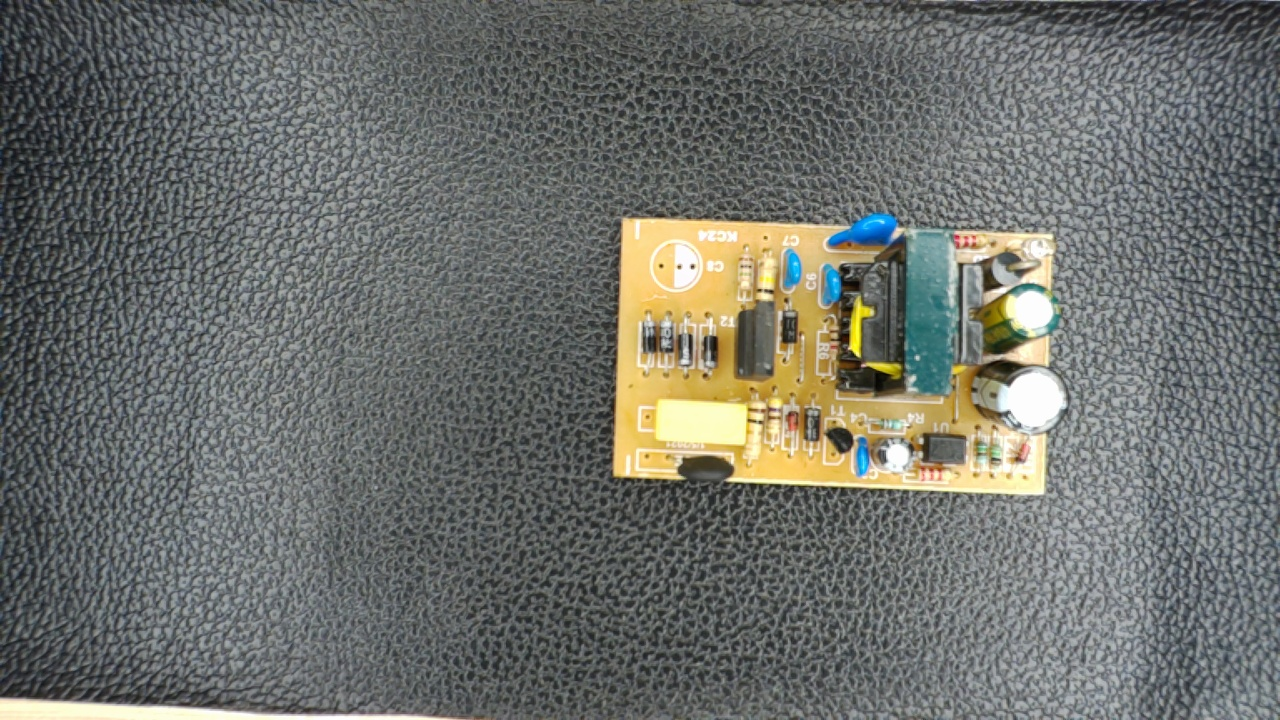fuse: (657, 447, 743, 486)
mov: (824, 212, 900, 257)
optocoupler: (914, 428, 972, 473)
